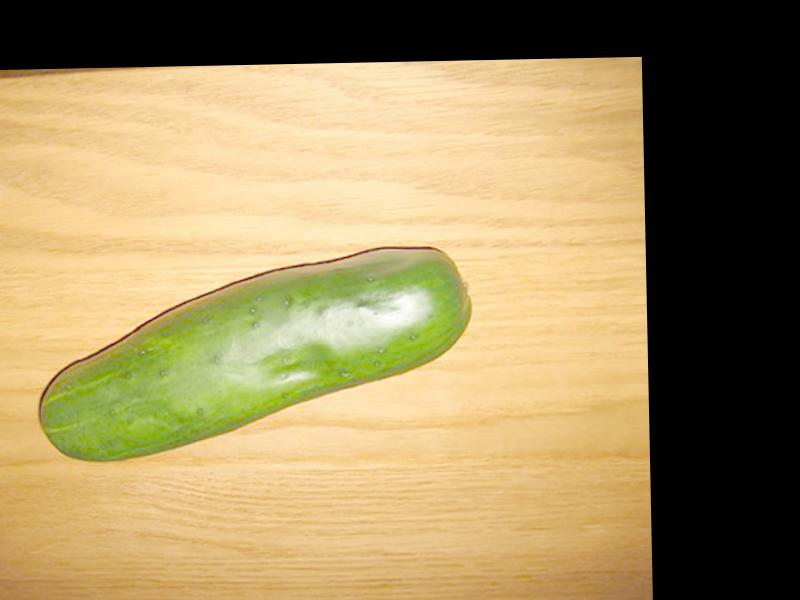Cucumber: (33, 245, 468, 460)
